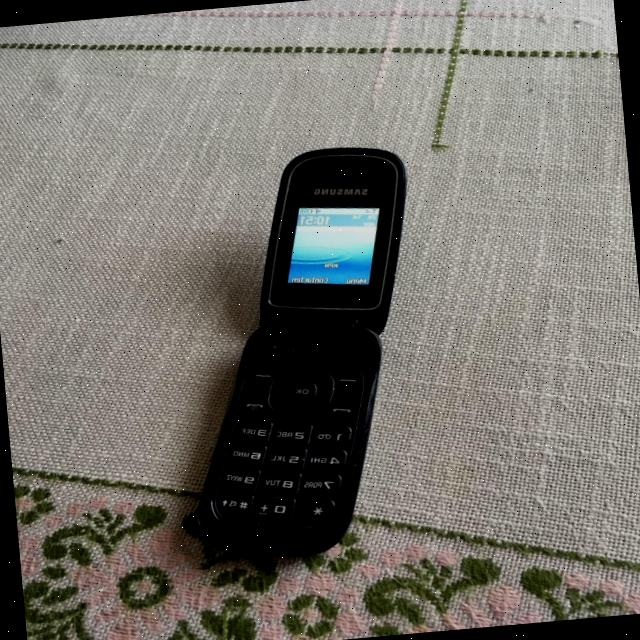Phone: (158, 138, 454, 583)
